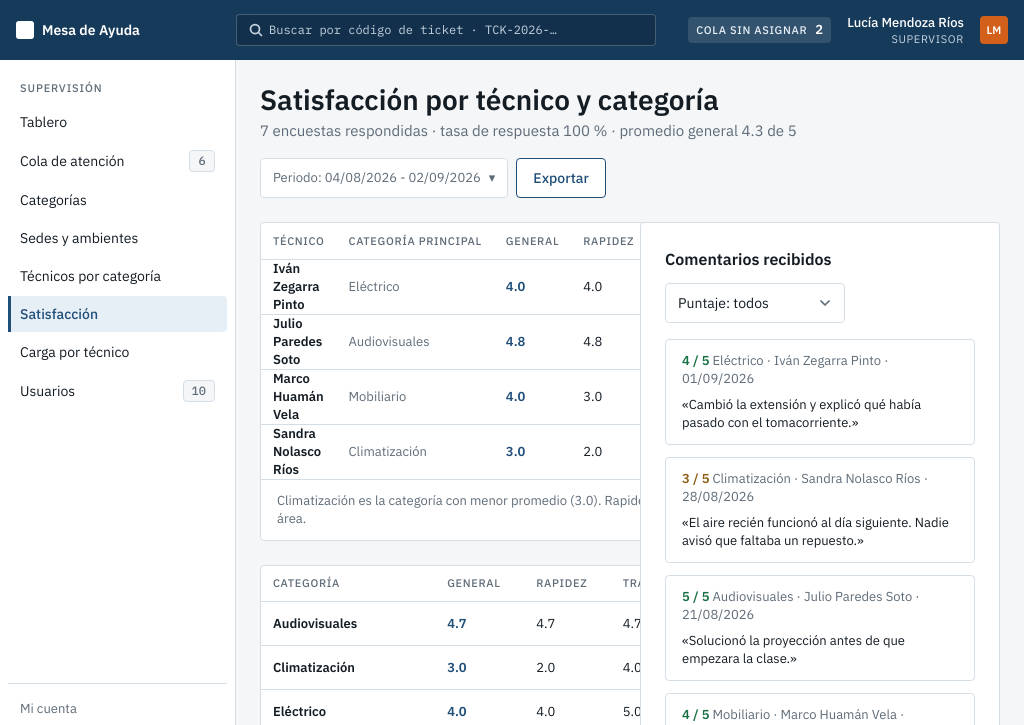
Test: SatisfaccionSupervisorPage (Vista 6.3) › se acota por periodo; con una sola categoría la nota solo indica el aspecto peor calificado
Expected: the text "7 encuestas respondidas" is shown, 260,121 -> 797,140
# el 01/09 y el 02/09 solo está la encuesta de Iván (Eléctrico): rapidez 4, trato 5 y solución 4
Click the heading "Periodo: 04/08/2026 - 02/09/2026 ▾" at (384, 178), box 260,158 -> 508,198
(page scrolled)
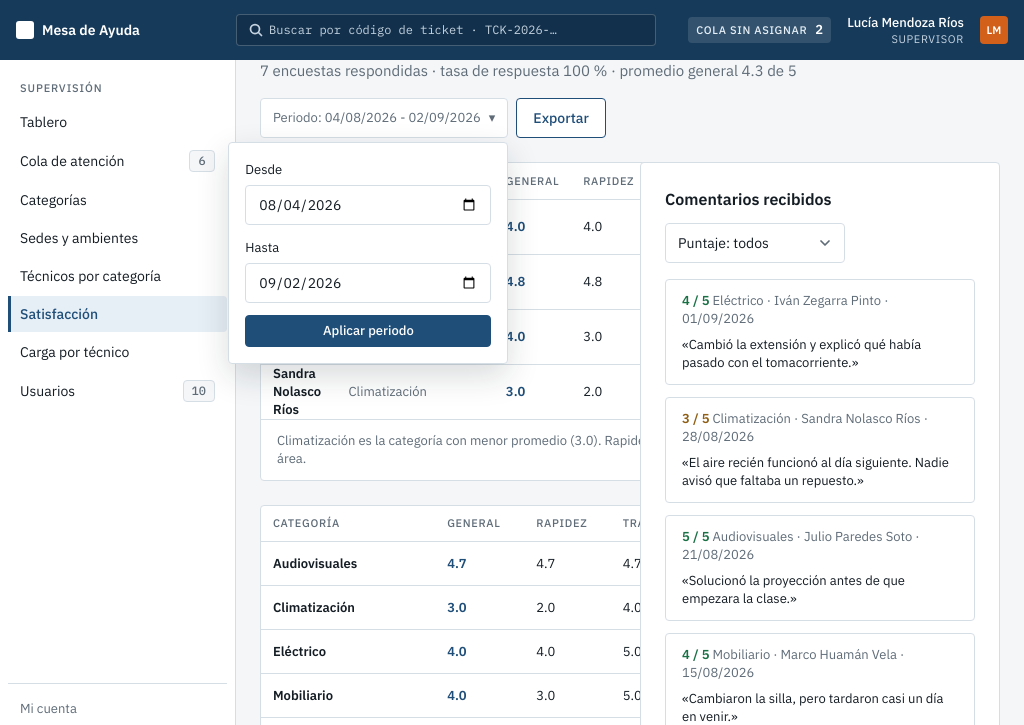
Type "2026-09-01" into the date field labelled "Desde" at (368, 205), box 245,185 -> 491,225
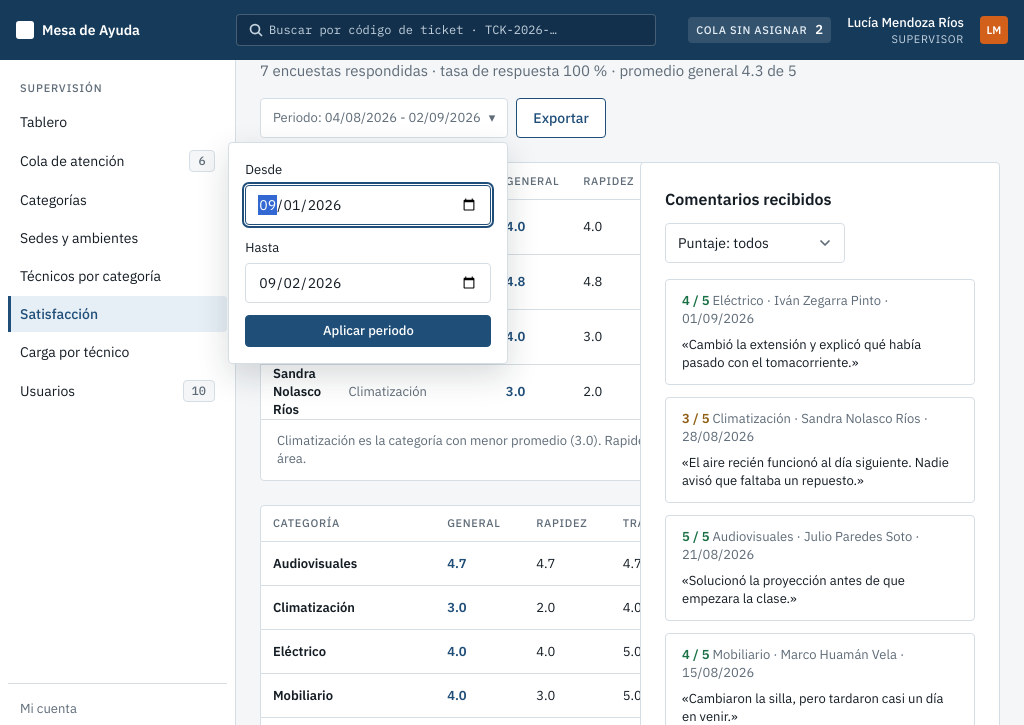
Click the button "Aplicar periodo" at (368, 331), box 245,315 -> 491,347
(page scrolled)
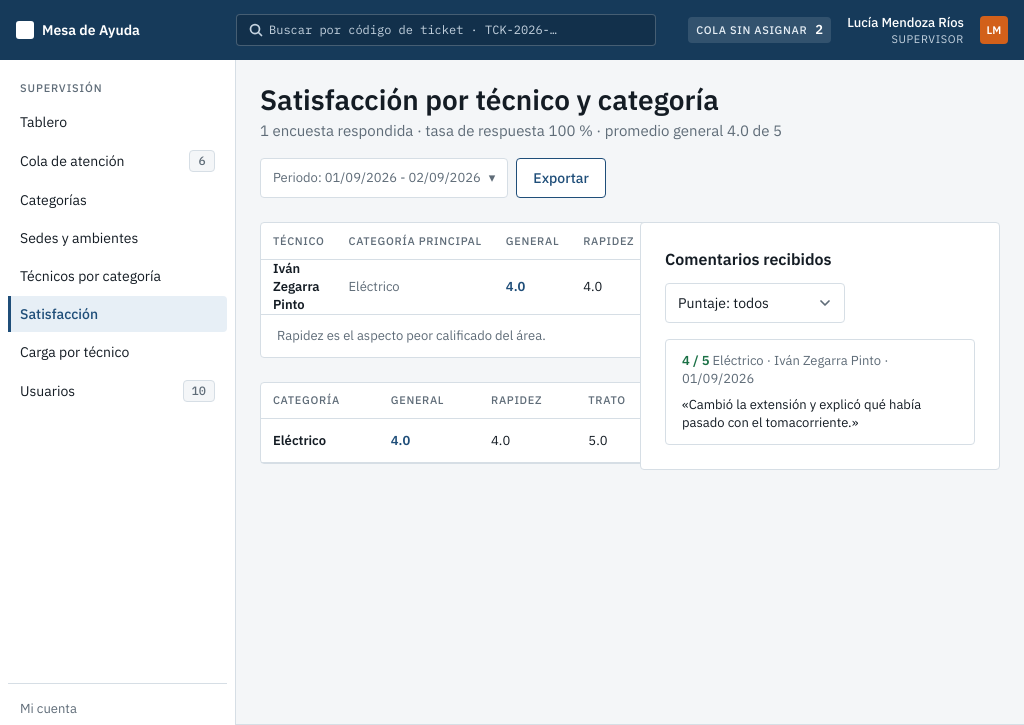
Expected: the text "Rapidez es el aspecto peor calificado del área." is shown, 277,326 -> 546,344
Now the text "1 encuesta respondida · tasa de respuesta 100 % · promedio general 4.0 de 5" is shown, box 260,120 -> 782,142
